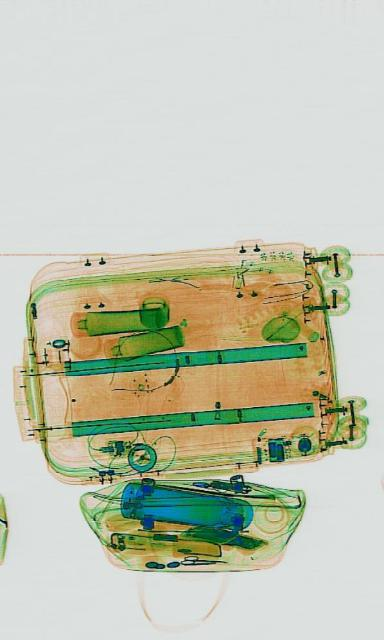Scissors: (180, 552, 224, 568)
